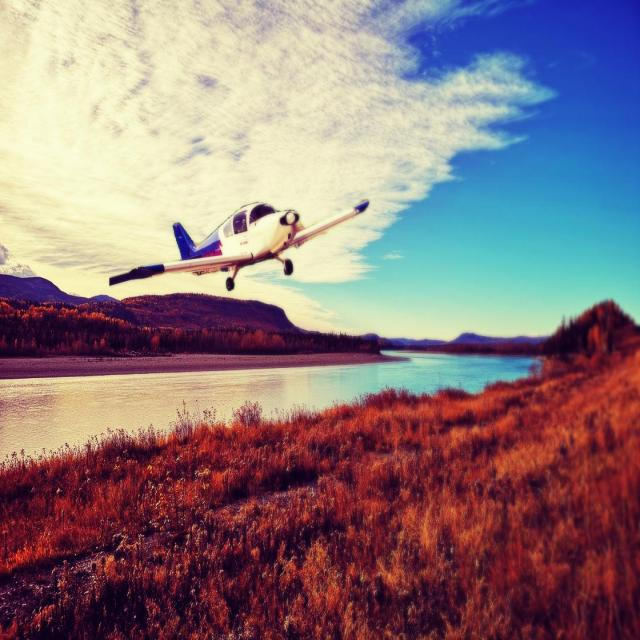airplane: (108, 197, 369, 291)
